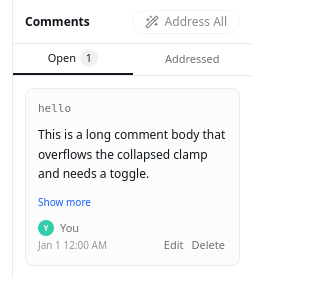
it: CommentsPanel show more / less › shows a working Show more/less toggle when the body overflows the clamp
// Expand: clamp class drops and the label flips to "Show less".
Click the button "Show more": (64, 202) x1=38 y1=194 x2=91 y2=210
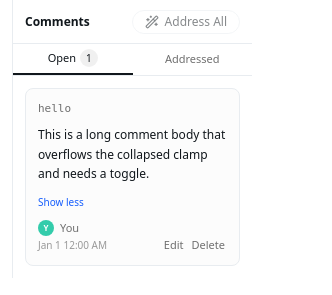
Now the button "Show less" is shown
// Collapse again: back to clamped + "Show more".
Click the button "Show less": (61, 202) x1=38 y1=194 x2=84 y2=210
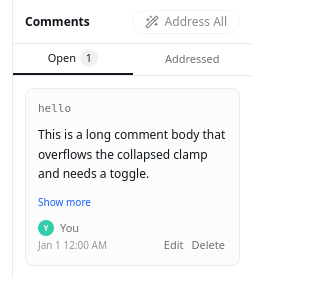
Now the button "Show more" is shown, box x1=38 y1=194 x2=91 y2=210
